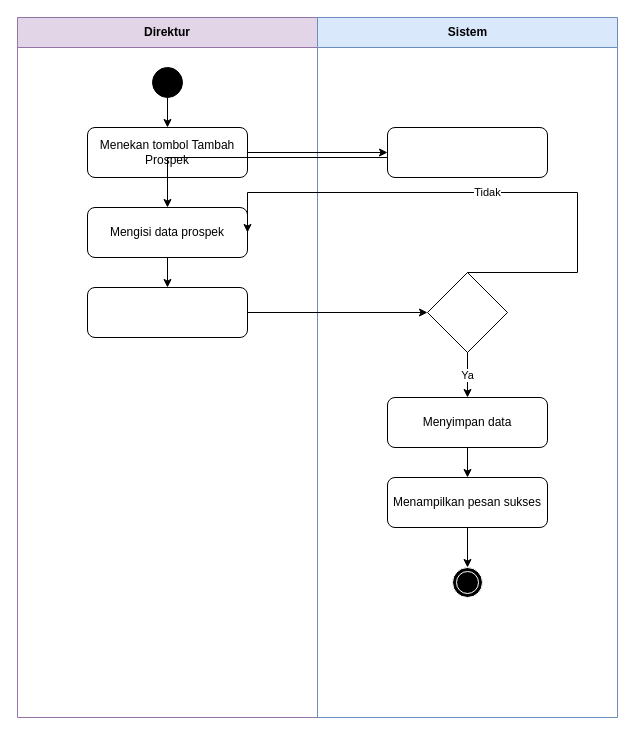
This 635x735 diagram has some shape labels left out. Each missing label, with the centre of its shape:
"Data Valid?" goes at point (467, 312).
"Menampilkan form prospek" goes at point (467, 152).
"Menekan tombol Simpan" goes at point (167, 312).
